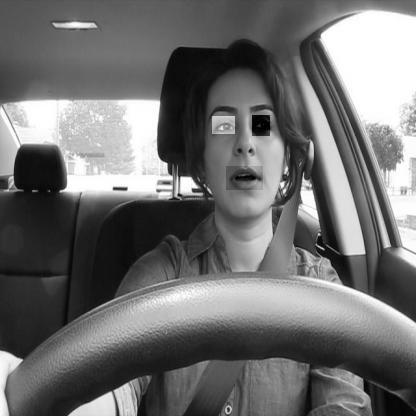seatbelt: (182, 33, 309, 416)
